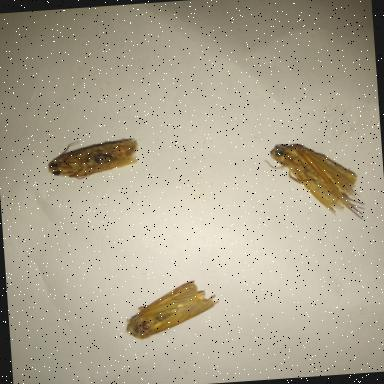pbw: (263, 137, 366, 226), (122, 278, 220, 340), (46, 138, 140, 181)
